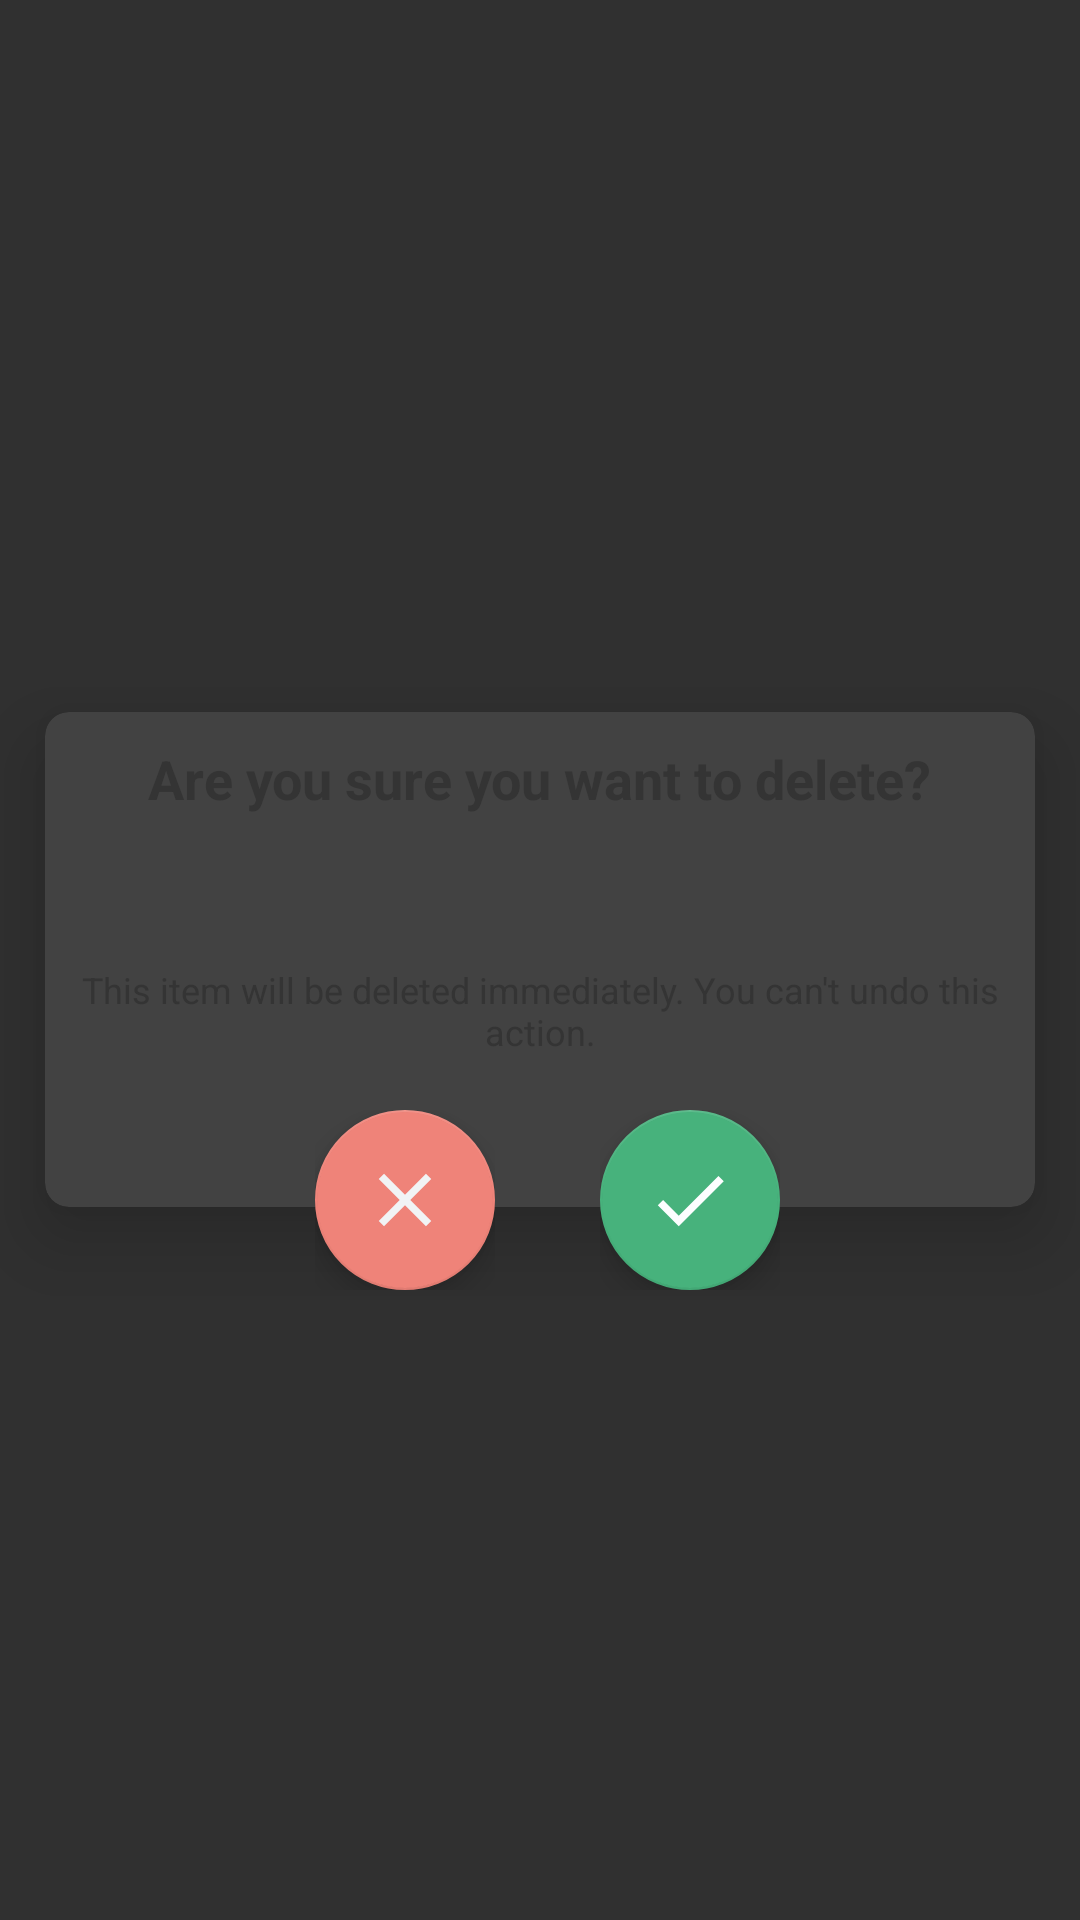

Named icons in this screenshot (1080 × 1920) and their bounding boxes, (x1, y1, x2, y2):
check: (658, 1176, 724, 1226)
clear: (379, 1174, 431, 1226)
